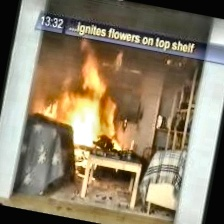fire: (46, 33, 142, 149)
